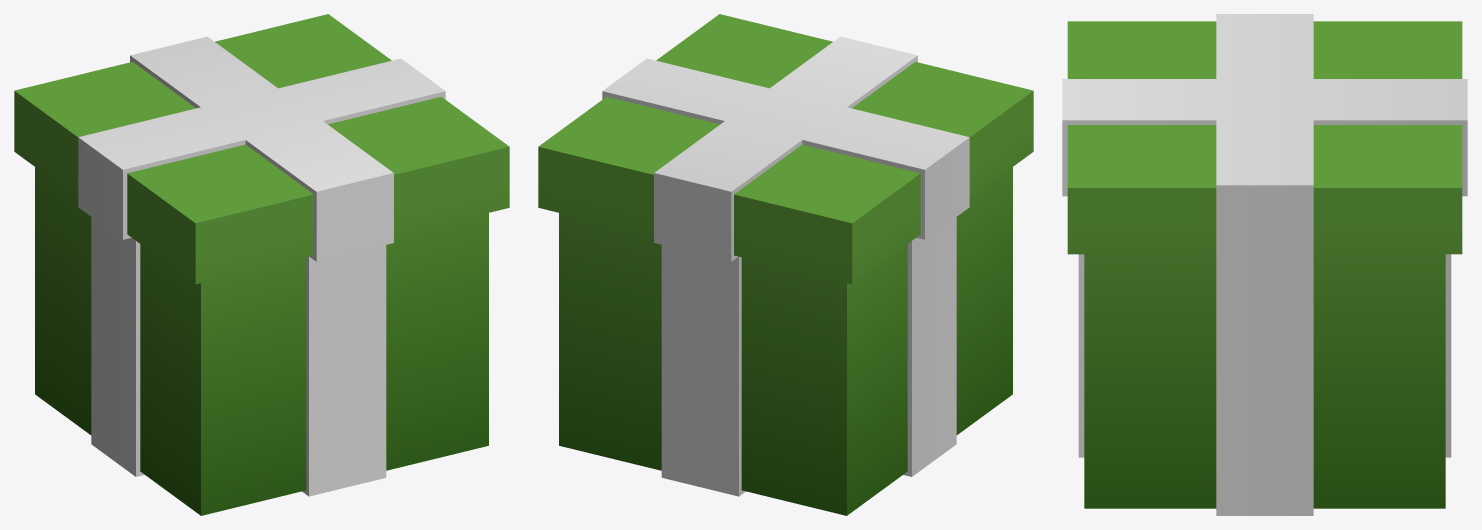
File: Green_Noel_deco_gift_box.fbx
The picture shows the model from 3 angles, left to right: view 1: azimuth 30°, elevation 25°; view 2: azimuth 150°, elevation 25°; view 3: azimuth 270°, elevation 25°; orthographic projection. The views are drawn at different scales.
Parts seen in each view (by area): view 1: Green_Noel_deco_gift_box; view 2: Green_Noel_deco_gift_box; view 3: Green_Noel_deco_gift_box.
Part boxes in pixels (bbox=[...]): Green_Noel_deco_gift_box: bbox=[14, 14, 509, 515]; Green_Noel_deco_gift_box: bbox=[538, 14, 1033, 515]; Green_Noel_deco_gift_box: bbox=[1062, 14, 1467, 515].
Bounding box in the file's own units: 99.49 × 91.41 × 99.49.
